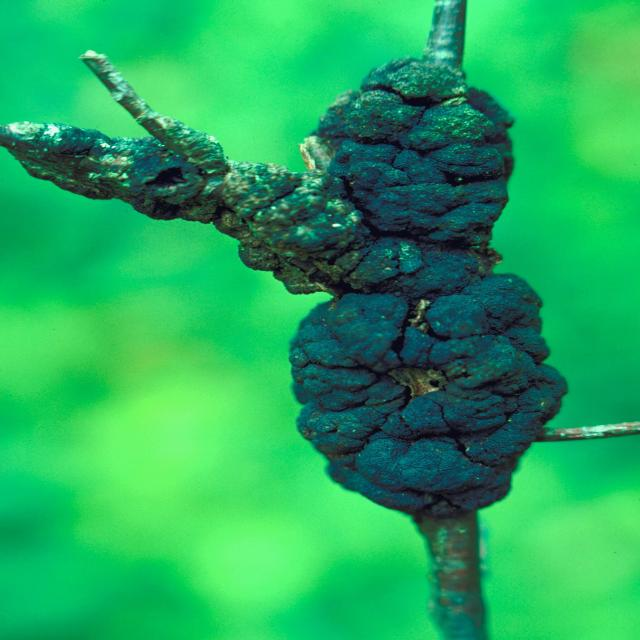Black_knot: (2, 1, 570, 522), (288, 272, 568, 518)
